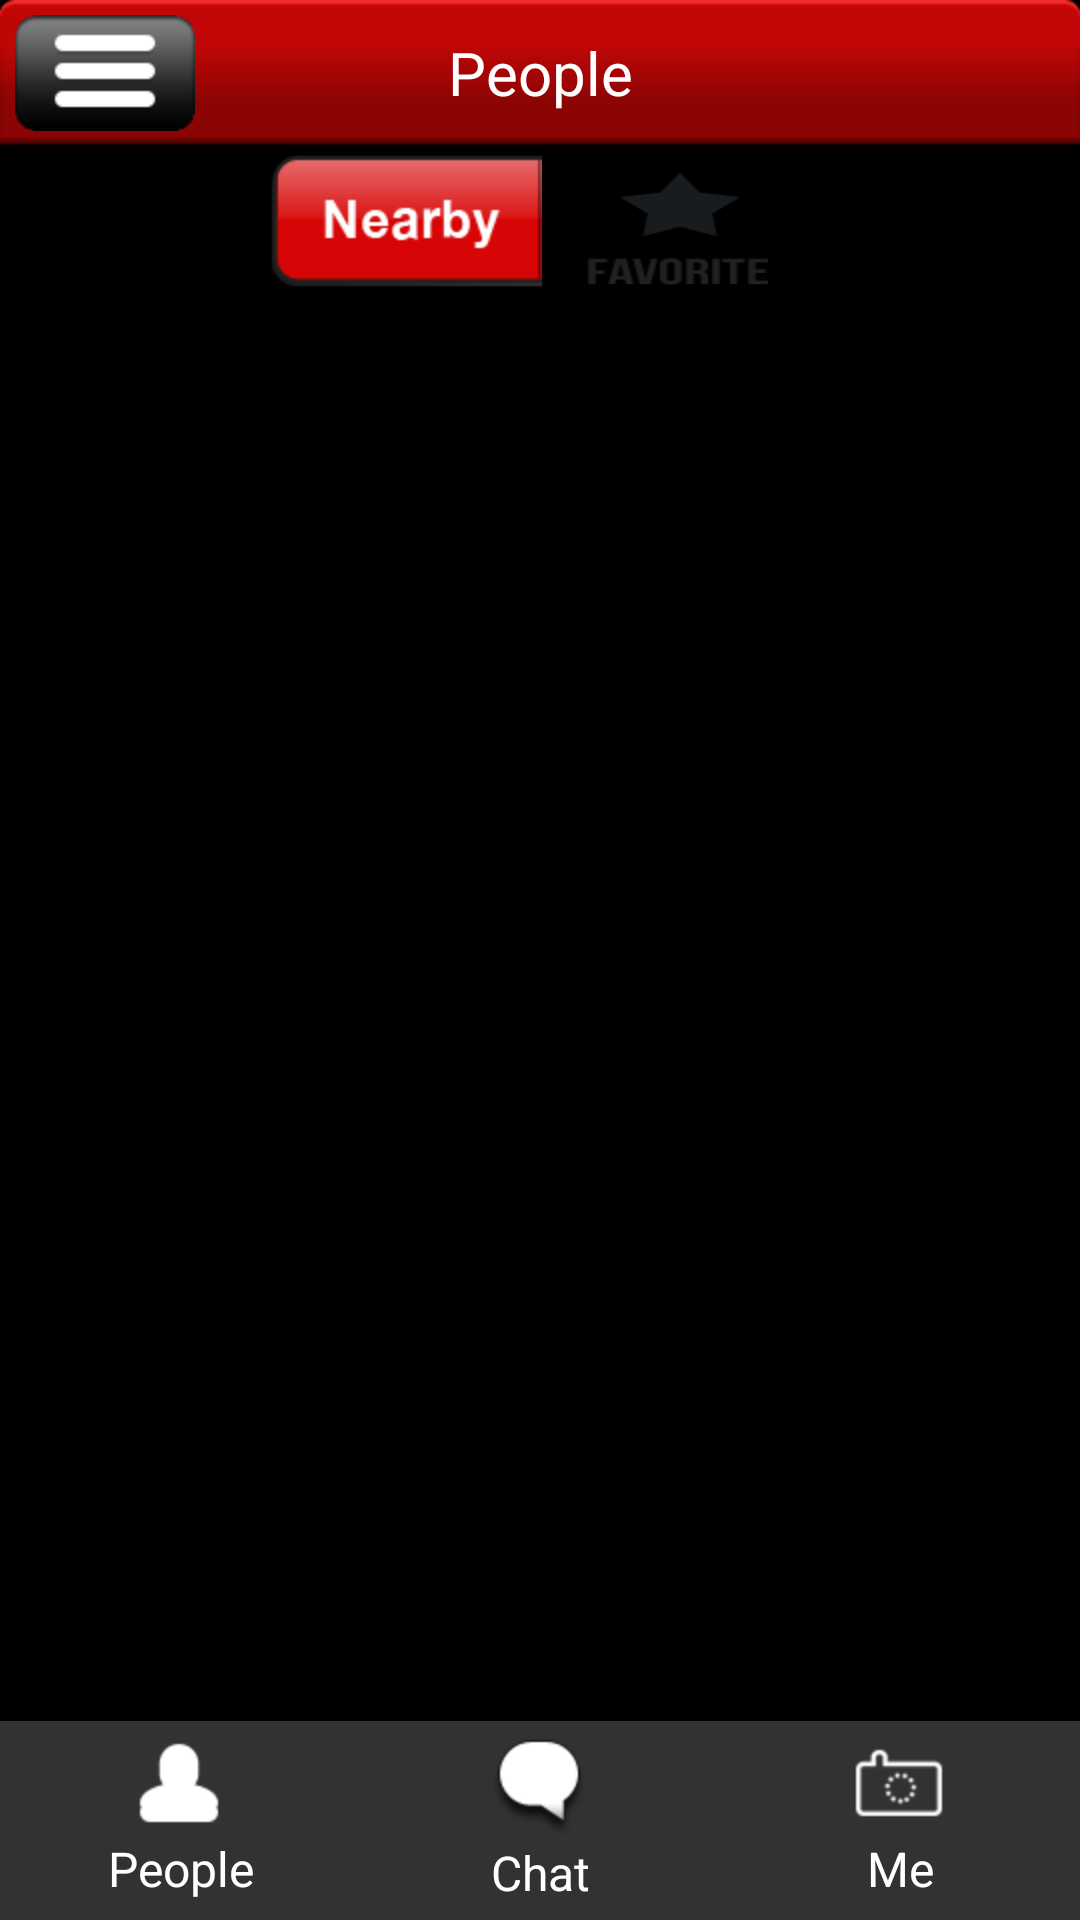

Icon click points for this 1080w x 1920h phone screenshot, format point (x, y):
list: point (105, 72)
